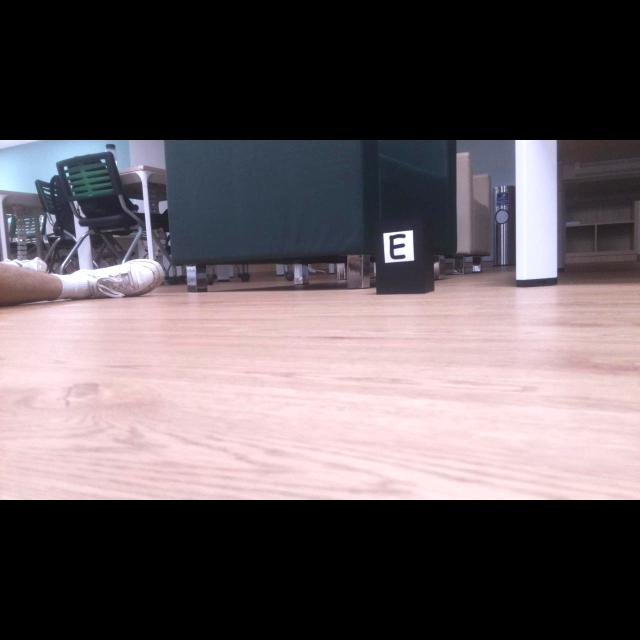E: (390, 234, 406, 259)
